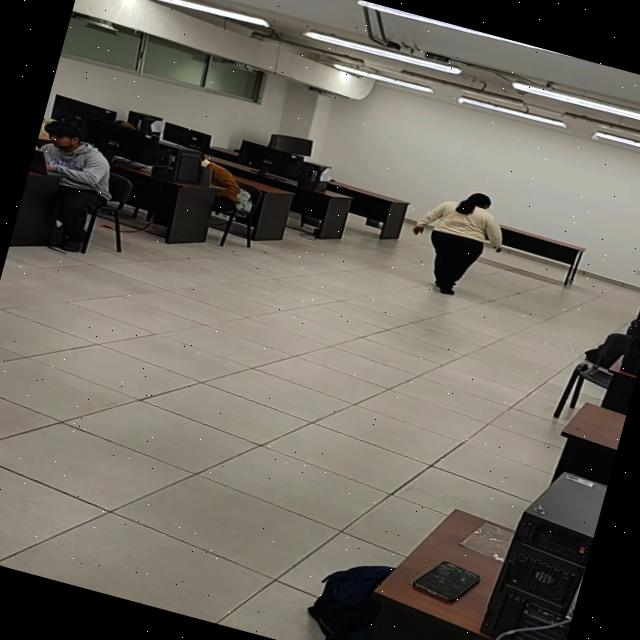Persona: (397, 178, 513, 305)
